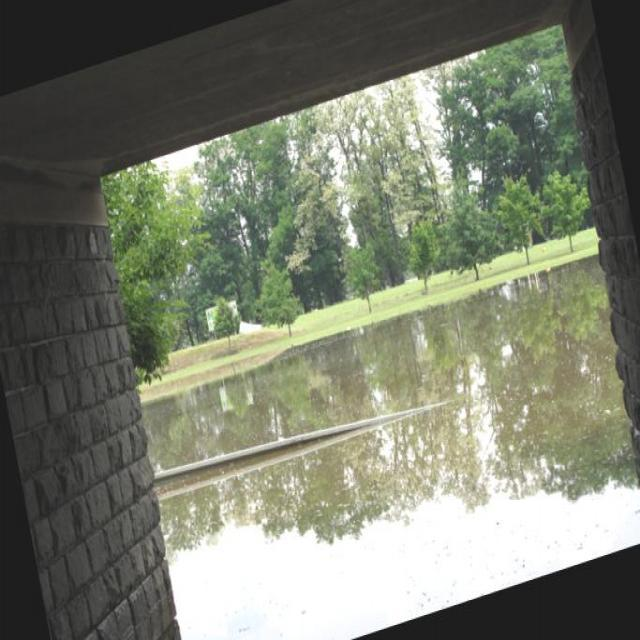flood: (137, 248, 639, 639)
